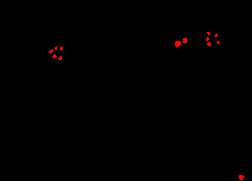Target: (175, 41, 181, 47), (239, 175, 244, 180), (183, 38, 187, 43), (52, 54, 57, 58), (207, 42, 211, 46), (49, 49, 53, 53), (58, 56, 62, 60), (206, 37, 209, 41), (207, 32, 210, 35), (215, 34, 218, 37), (217, 41, 220, 44), (60, 47, 63, 50), (55, 46, 57, 50)
